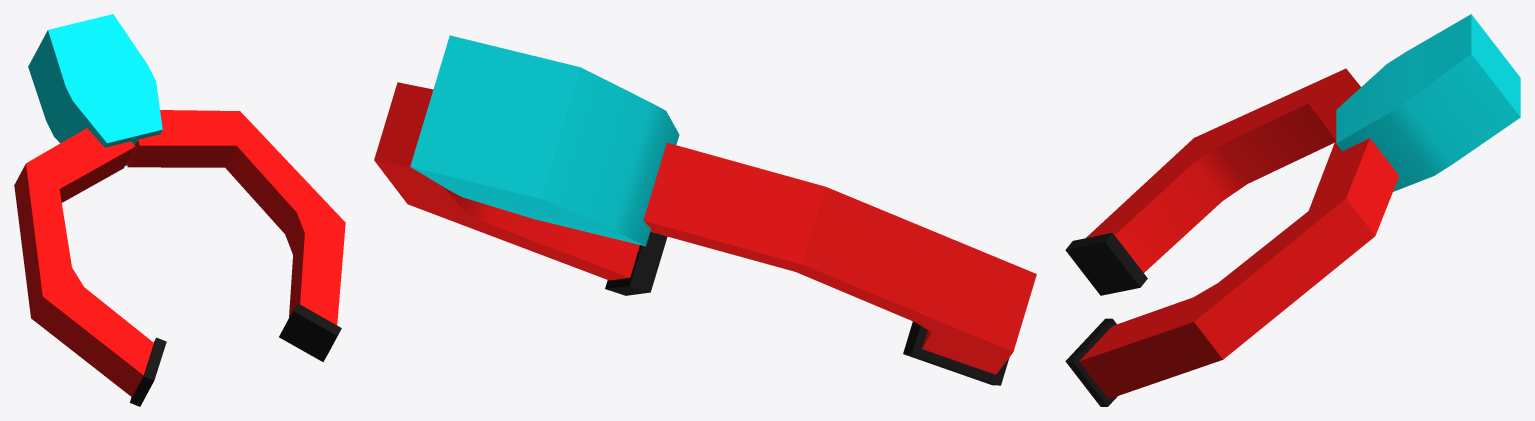
The model's file is Grabber_narrow.FBX.
3 views of the same model, side by side, from view 1: azimuth 30°, elevation 25°; view 2: azimuth 150°, elevation 25°; view 3: azimuth 270°, elevation 25° (orthographic). The views are drawn at different scales.
Parts seen in each view (by area): view 1: Grabber_small; view 2: Grabber_small; view 3: Grabber_small.
Part boxes in pixels (x1=…): Grabber_small: x1=14, y1=14, x2=345, y2=406; Grabber_small: x1=374, y1=35, x2=1036, y2=385; Grabber_small: x1=1065, y1=14, x2=1520, y2=406.
Size of the model in its own units: 82.37 by 66.04 by 86.17.
